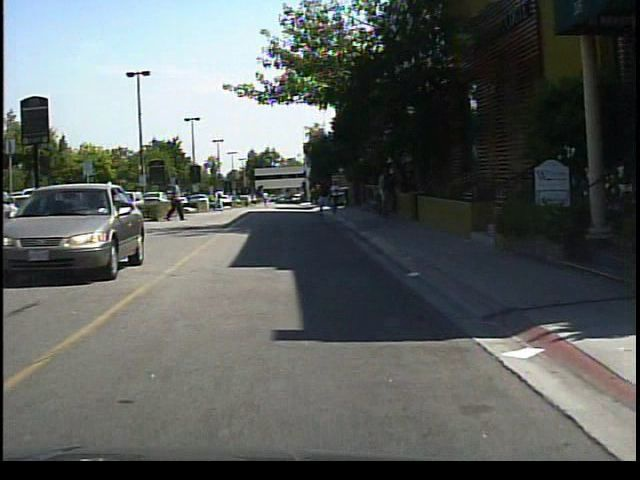person: (376, 160, 399, 225), (317, 168, 342, 220), (102, 176, 124, 229), (167, 174, 187, 223), (72, 181, 90, 229), (214, 187, 228, 214), (260, 189, 276, 212)
